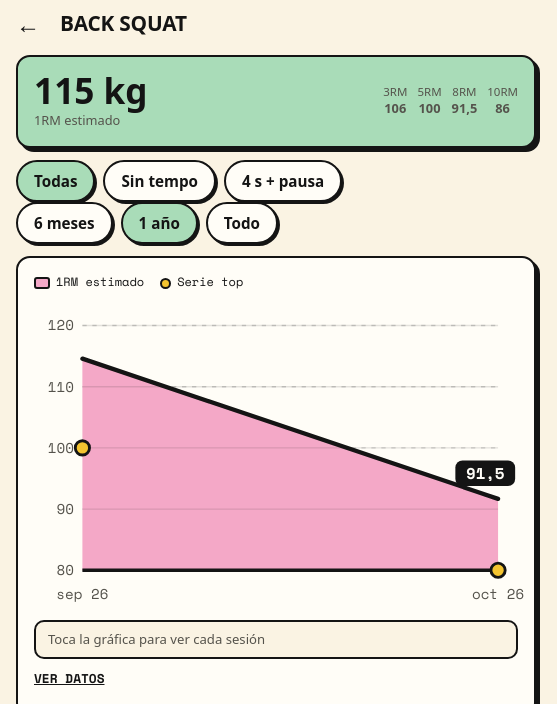
Test: progreso de fuerza: filtro con / sin tempo
The width and height of the screenshot is (557, 704).
What coordinates should you click on to do the following:
click the button "Ver datos"
I would click on:
 (69, 678)
Its box is [34,658,104,698].
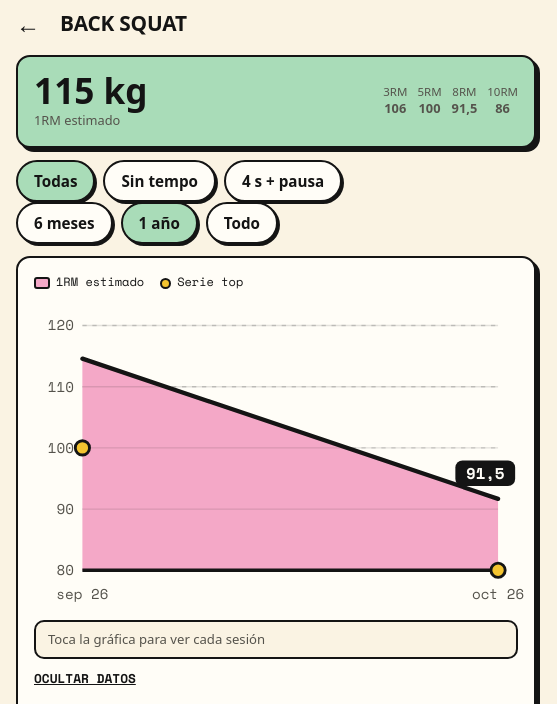
What coordinates should you click on to do the following:
click the button "4 s + pausa"
I would click on:
 (283, 181)
Its box is [224,160,342,202].
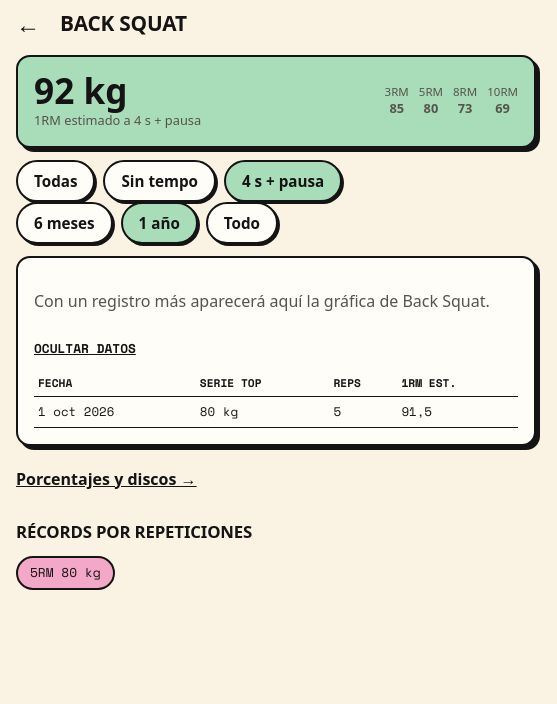
Now the row "1 oct 2026 80 kg 5 91,5" is shown, box [34,397,518,427]
Now the number of rows is 2, box [34,369,518,397]; [34,397,518,427]
